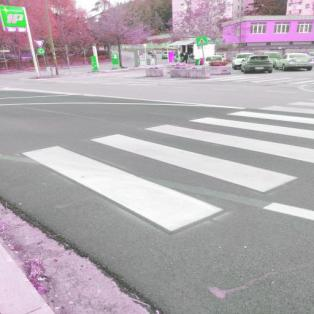Paso de Cebra: (16, 130, 313, 238)
